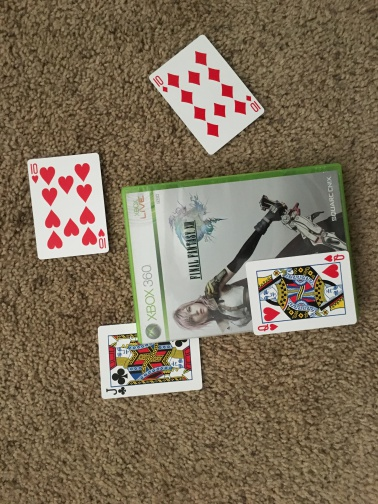jack: (95, 321, 205, 399)
queen: (247, 250, 359, 336)
ten: (150, 34, 265, 155), (26, 153, 111, 260)
